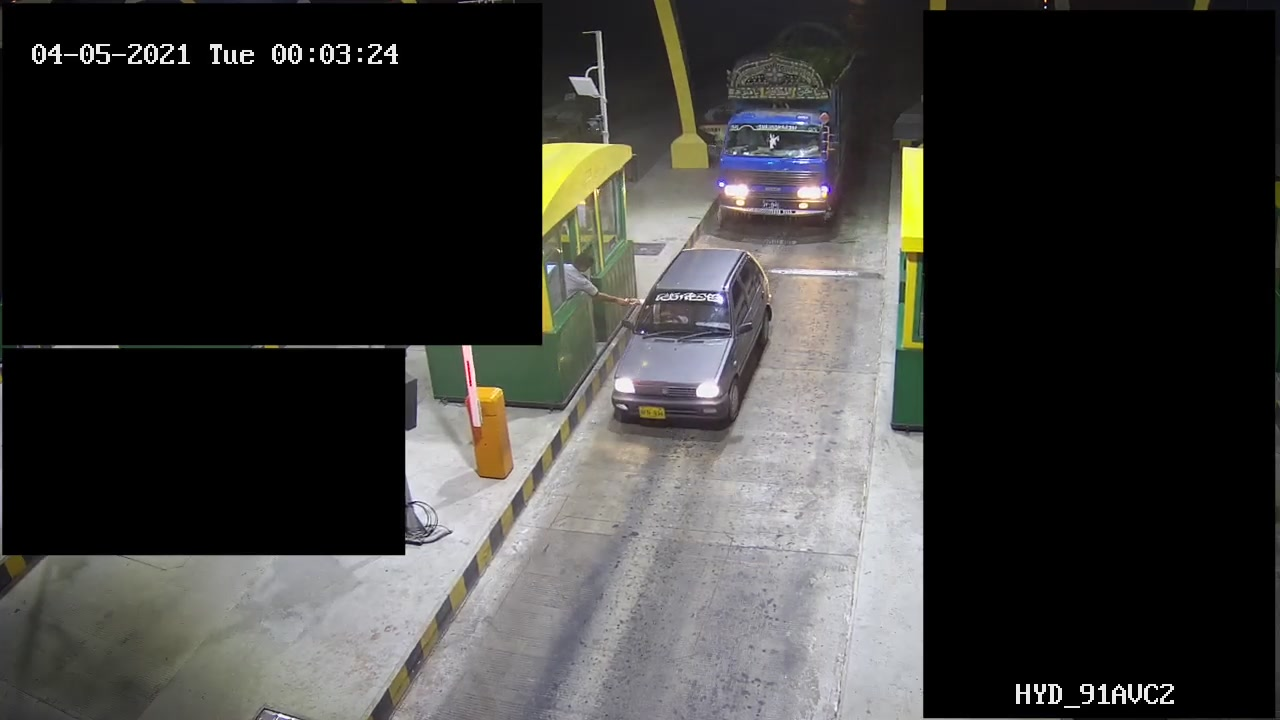F1: (609, 241, 778, 432)
F5: (710, 23, 860, 232)
